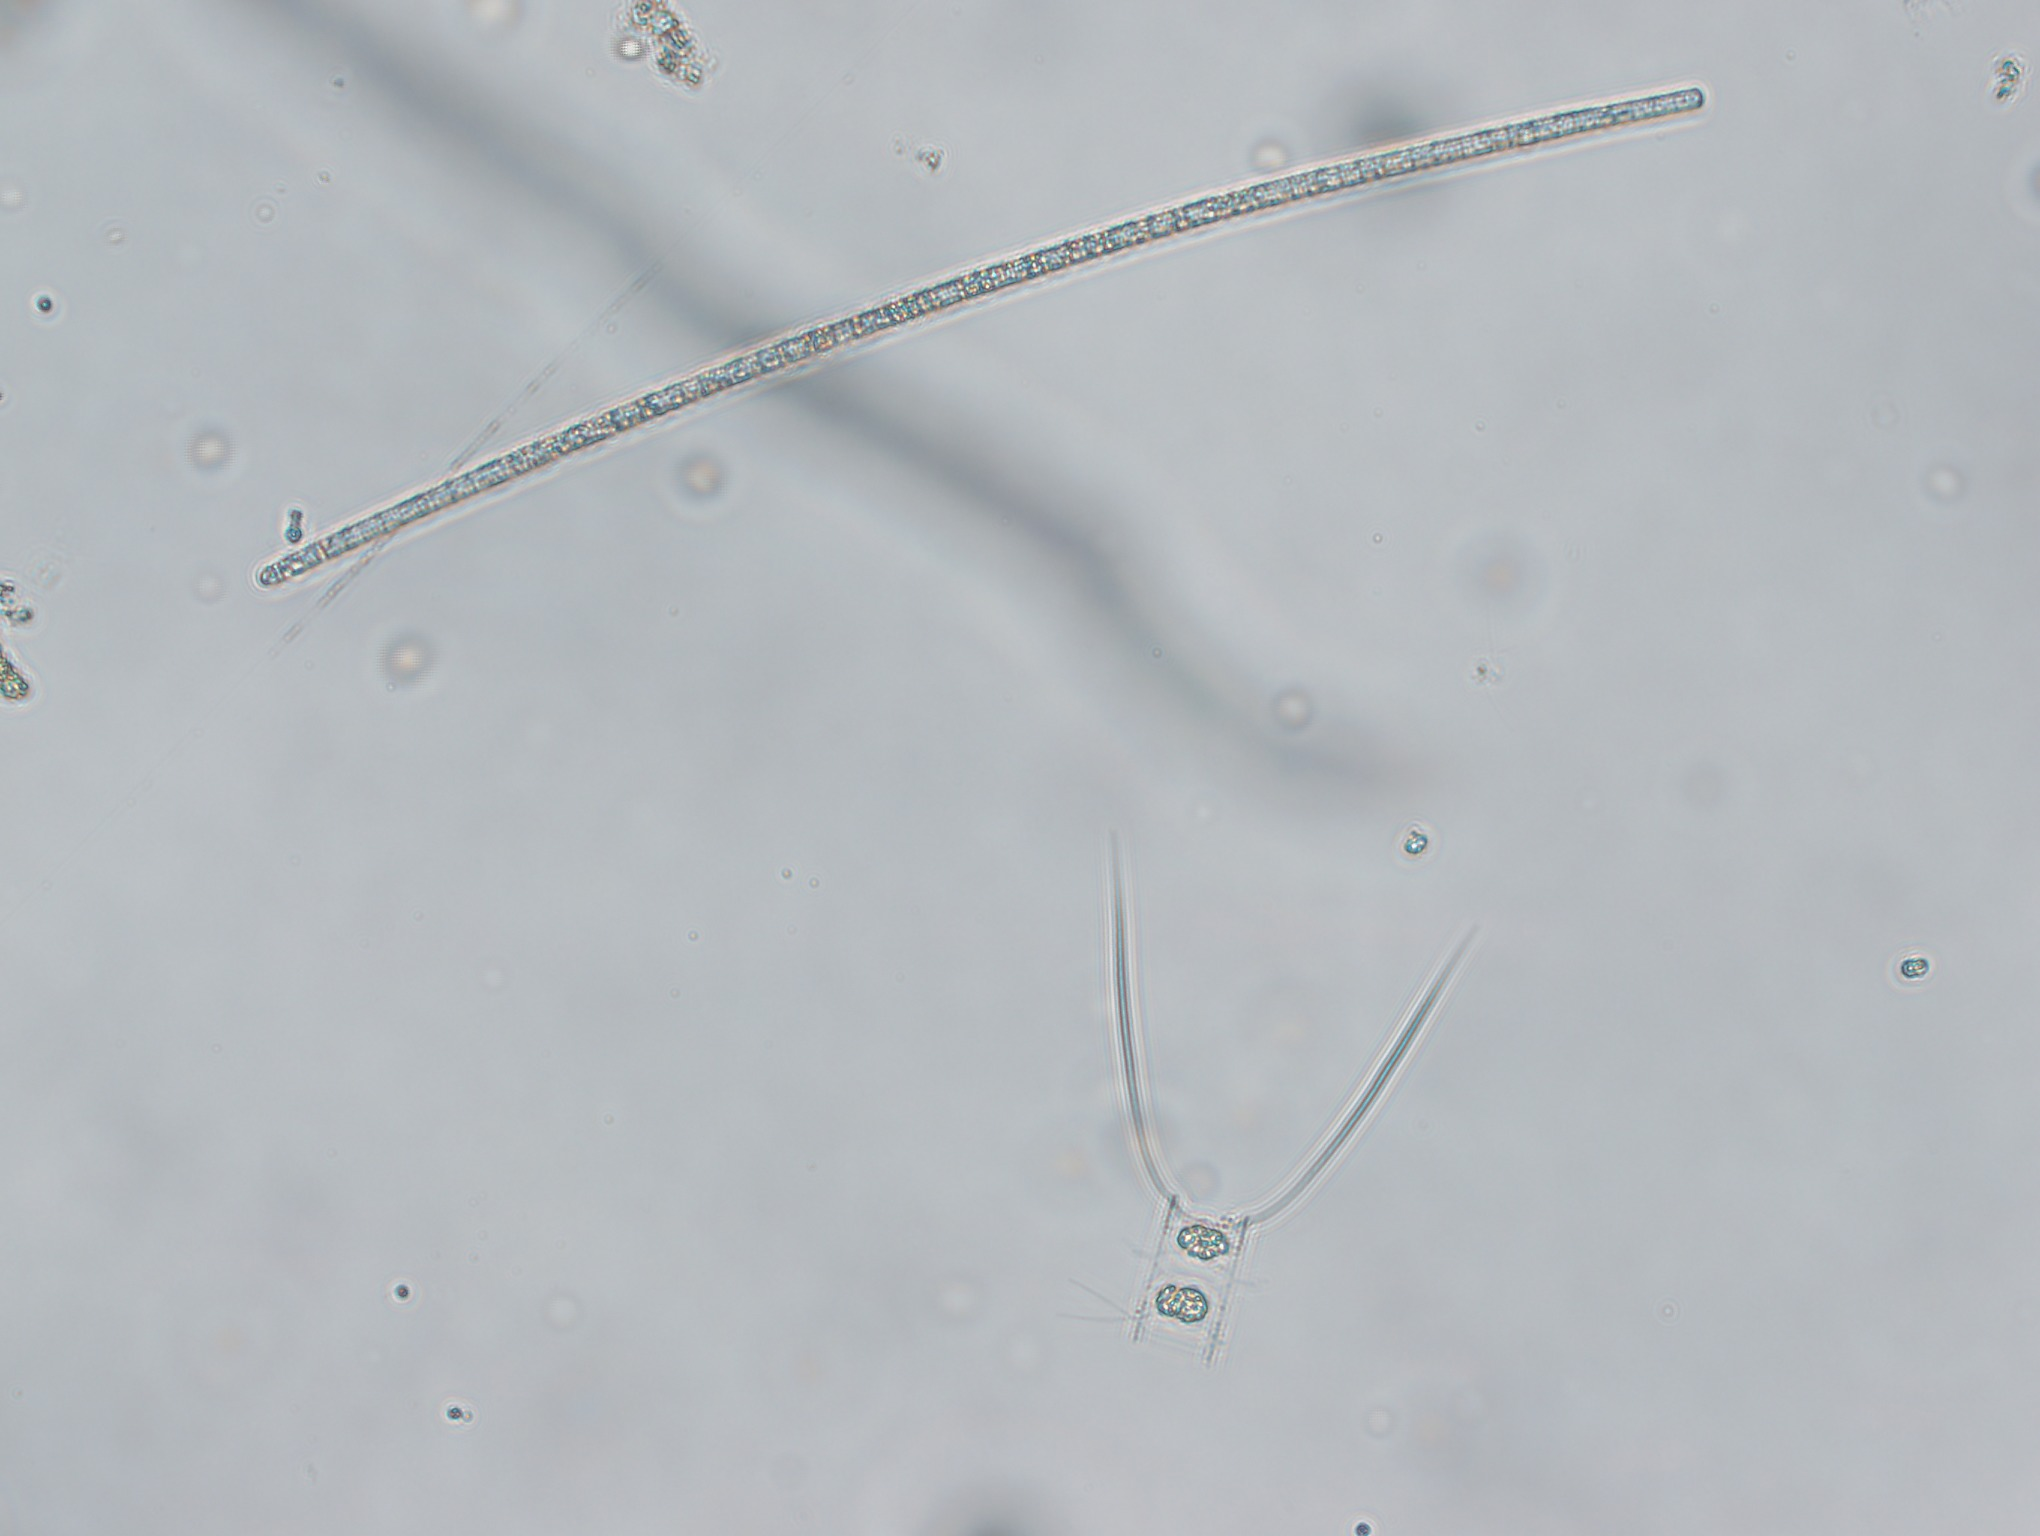chaetoceros: (1066, 829, 1464, 1404)
